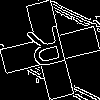R: (25, 25, 71, 78)
